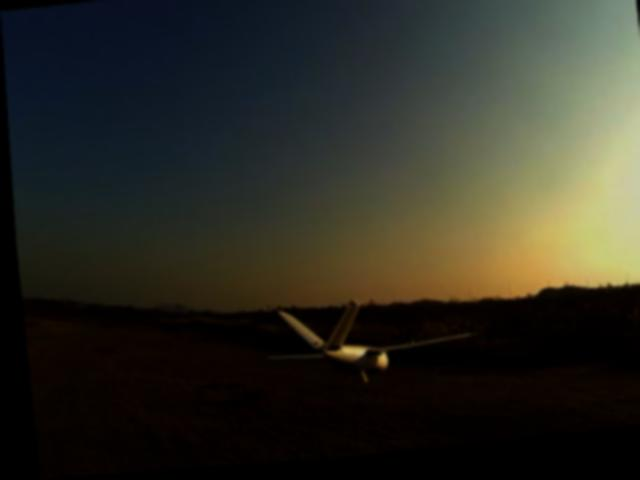uav: (250, 283, 483, 408)
